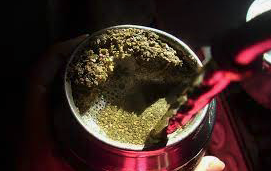mate: (54, 18, 229, 171)
